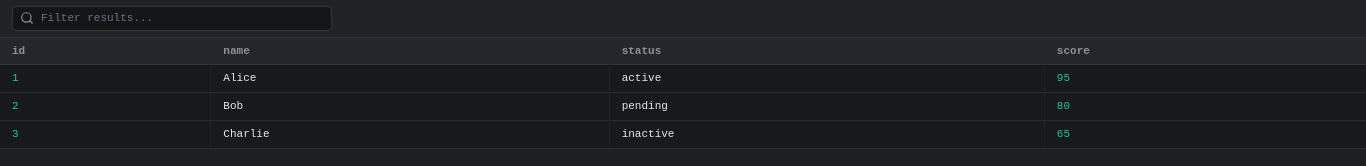
Test: EditableDataGrid component › Quick client-side filter bar › filters rows matching text and shows row count indicator
This screenshot has width=1366, height=166.
// Filter by 'Bob'
Type "Bob" into the field with test id "grid-filter-input" at (172, 18), box [12, 6, 332, 31]
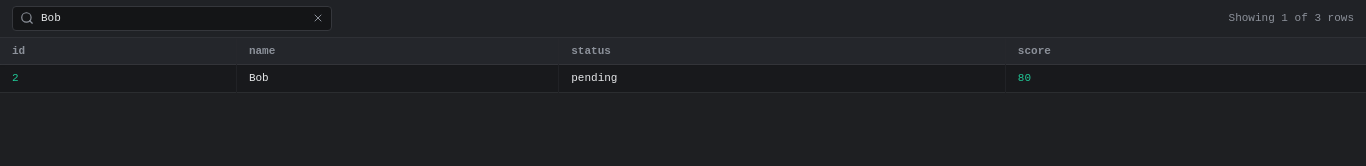
Now the text with test id "grid-filter-count" reads "Showing 1 of 3 rows", box [1228, 11, 1354, 26]
Now the text "Alice" is gone
Now the text "Charlie" is gone
// Clear filter via clear button
Click the button with test id "grid-filter-clear-btn" at (318, 18), box [310, 10, 326, 26]
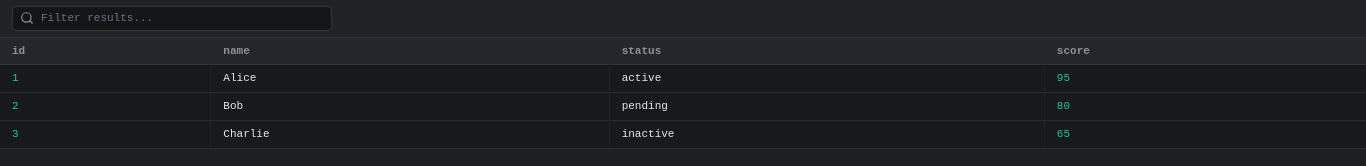
Now the text "Alice" is shown, box [223, 72, 256, 84]
Now the text "Charlie" is shown, box [223, 128, 270, 140]
Now the text with test id "grid-filter-count" is gone
